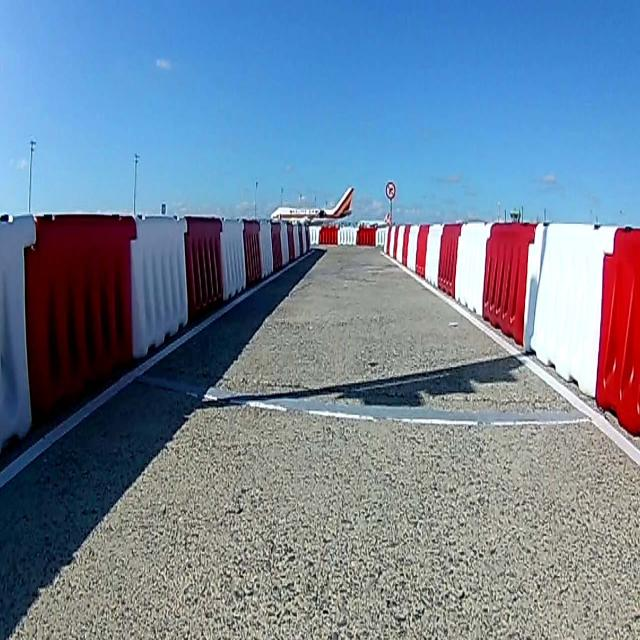sagadonulmez: (385, 180, 396, 200)
